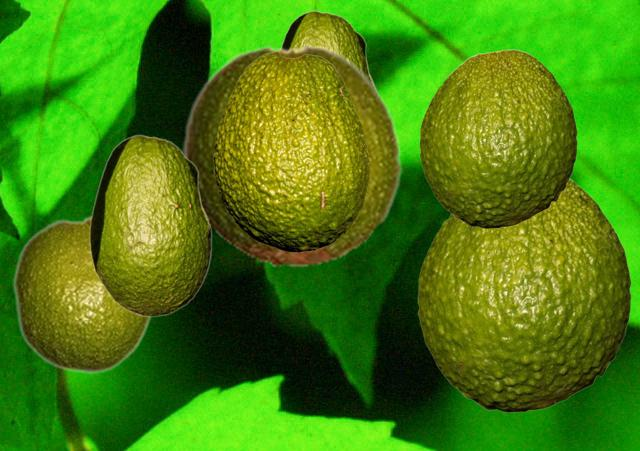avocado: (417, 178, 630, 411), (182, 44, 403, 267), (213, 51, 368, 251), (419, 49, 576, 227), (12, 214, 153, 374), (89, 134, 211, 316), (281, 10, 374, 81)
